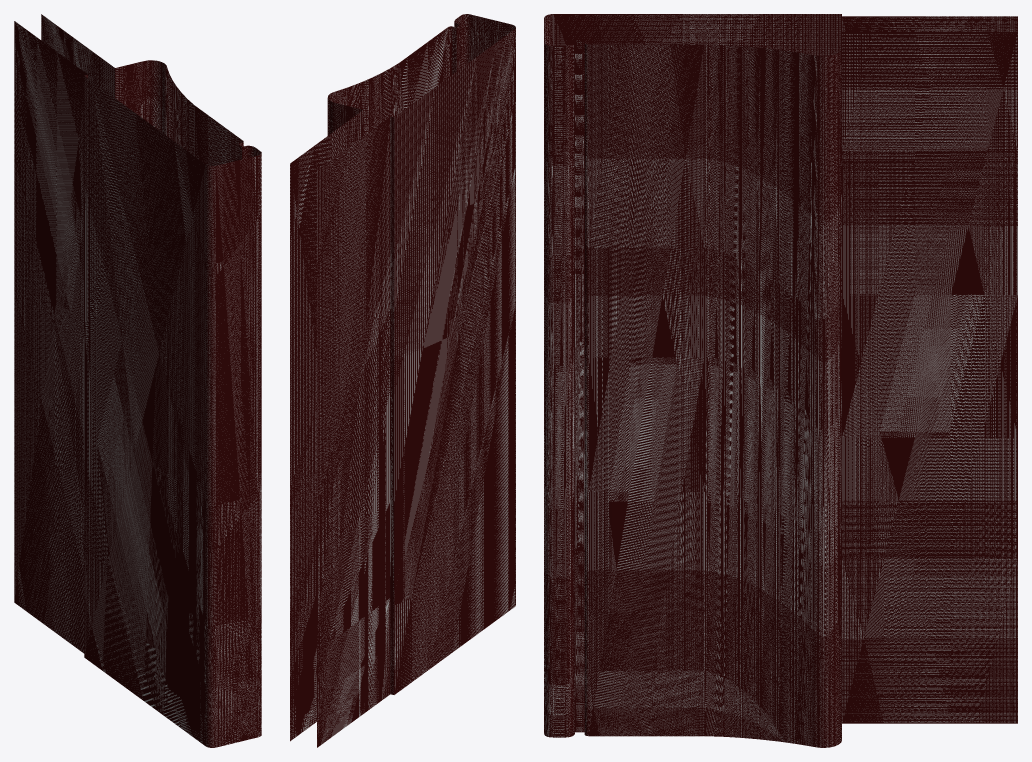
Rendered from original-42.obj.
The picture shows the model from 3 angles, left to right: view 1: azimuth 30°, elevation 25°; view 2: azimuth 150°, elevation 25°; view 3: azimuth 270°, elevation 25°; orthographic projection. The views are drawn at different scales.
Visible parts, largest first — view 1: DF_21_CL2/DF_21_CL/mesh25/mesh25-geometry#mesh25-geometry; view 2: DF_21_CL2/DF_21_CL/mesh25/mesh25-geometry#mesh25-geometry; view 3: DF_21_CL2/DF_21_CL/mesh25/mesh25-geometry#mesh25-geometry.
Part boxes in pixels (x1,y1,x2,y2): DF_21_CL2/DF_21_CL/mesh25/mesh25-geometry#mesh25-geometry: (14, 14, 261, 747); DF_21_CL2/DF_21_CL/mesh25/mesh25-geometry#mesh25-geometry: (290, 14, 515, 747); DF_21_CL2/DF_21_CL/mesh25/mesh25-geometry#mesh25-geometry: (544, 14, 1017, 747).
Size of the model in its own units: 0.0232 by 0.1772 by 0.11.
